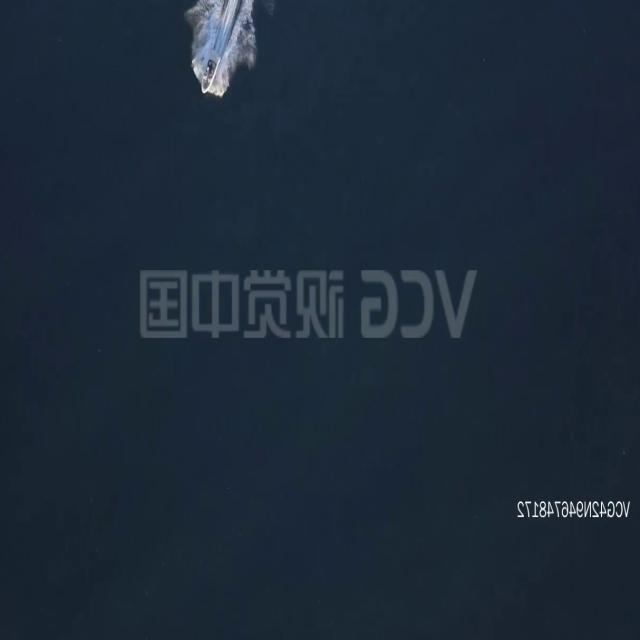houseboat: (200, 50, 222, 94)
